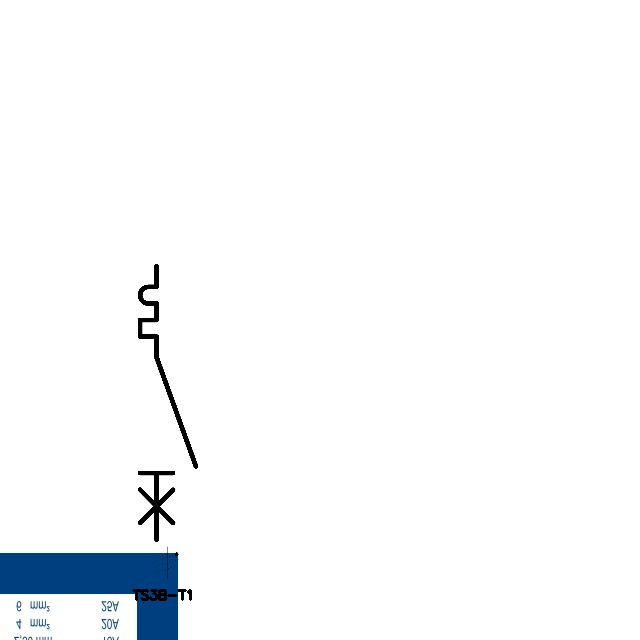interruptor_termomagnetico: (133, 259, 203, 547)
